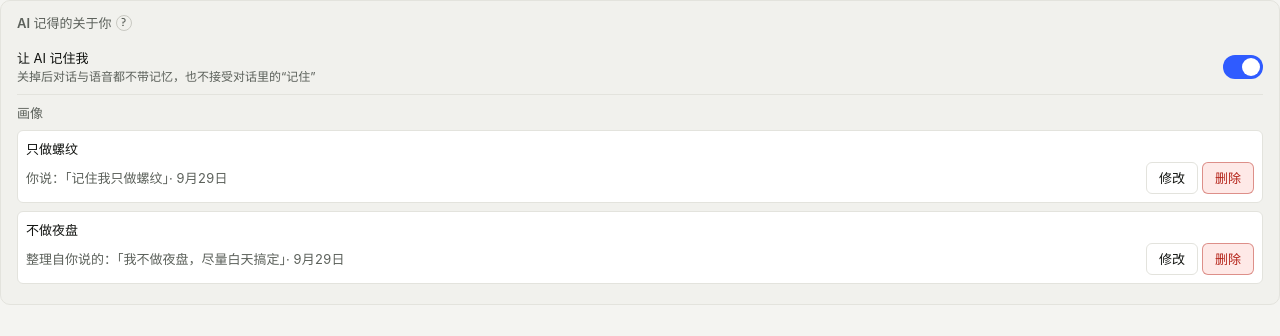
a failed save keeps the editor open with the draft
The image size is (1280, 336).
expect the text "只做螺纹" is shown: met, box [26,141,78,157]
Step 1. Click the button "修改" in the row of "你说：「记住我只做螺纹」· 9月29日" → (1172, 178), box [1146,162,1198,194]
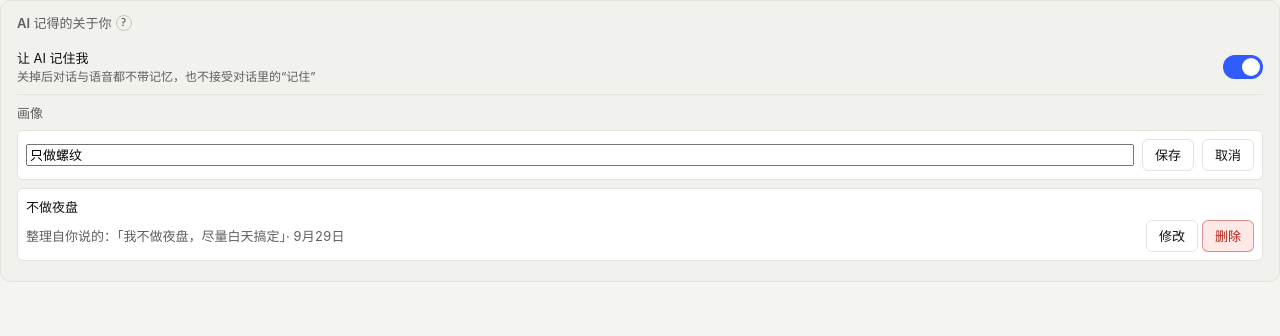
Step 2. Replace the text in the field named "修改画像" with "只做螺纹和铁矿" → (580, 155), box [26,144,1134,166]
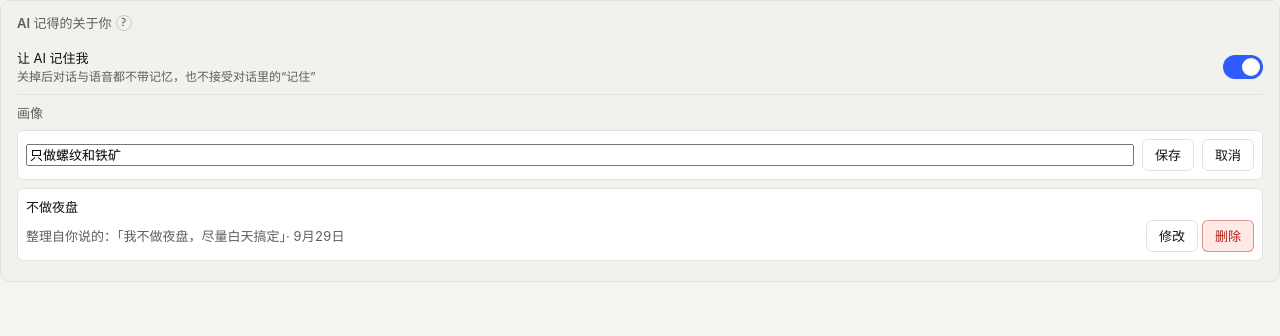
Step 3. Click the button "保存" → (1168, 155), box [1142,139,1194,171]
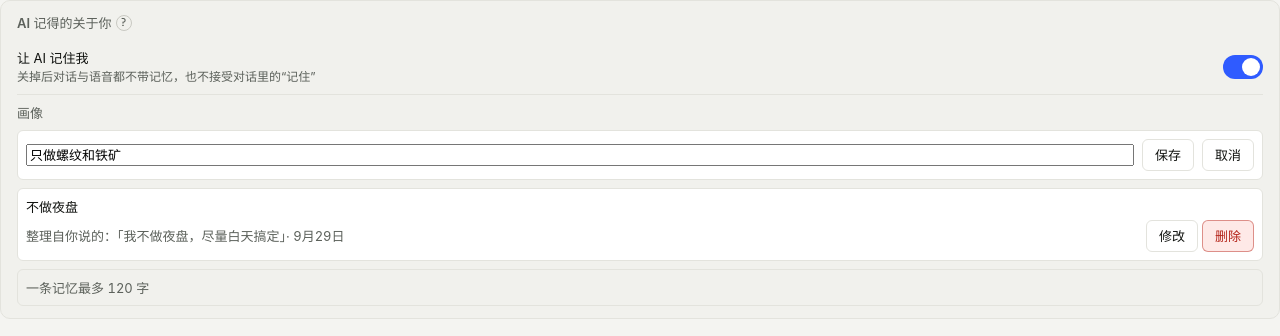
expect the message reads "一条记忆最多 120 字": met, box [26,280,149,296]
